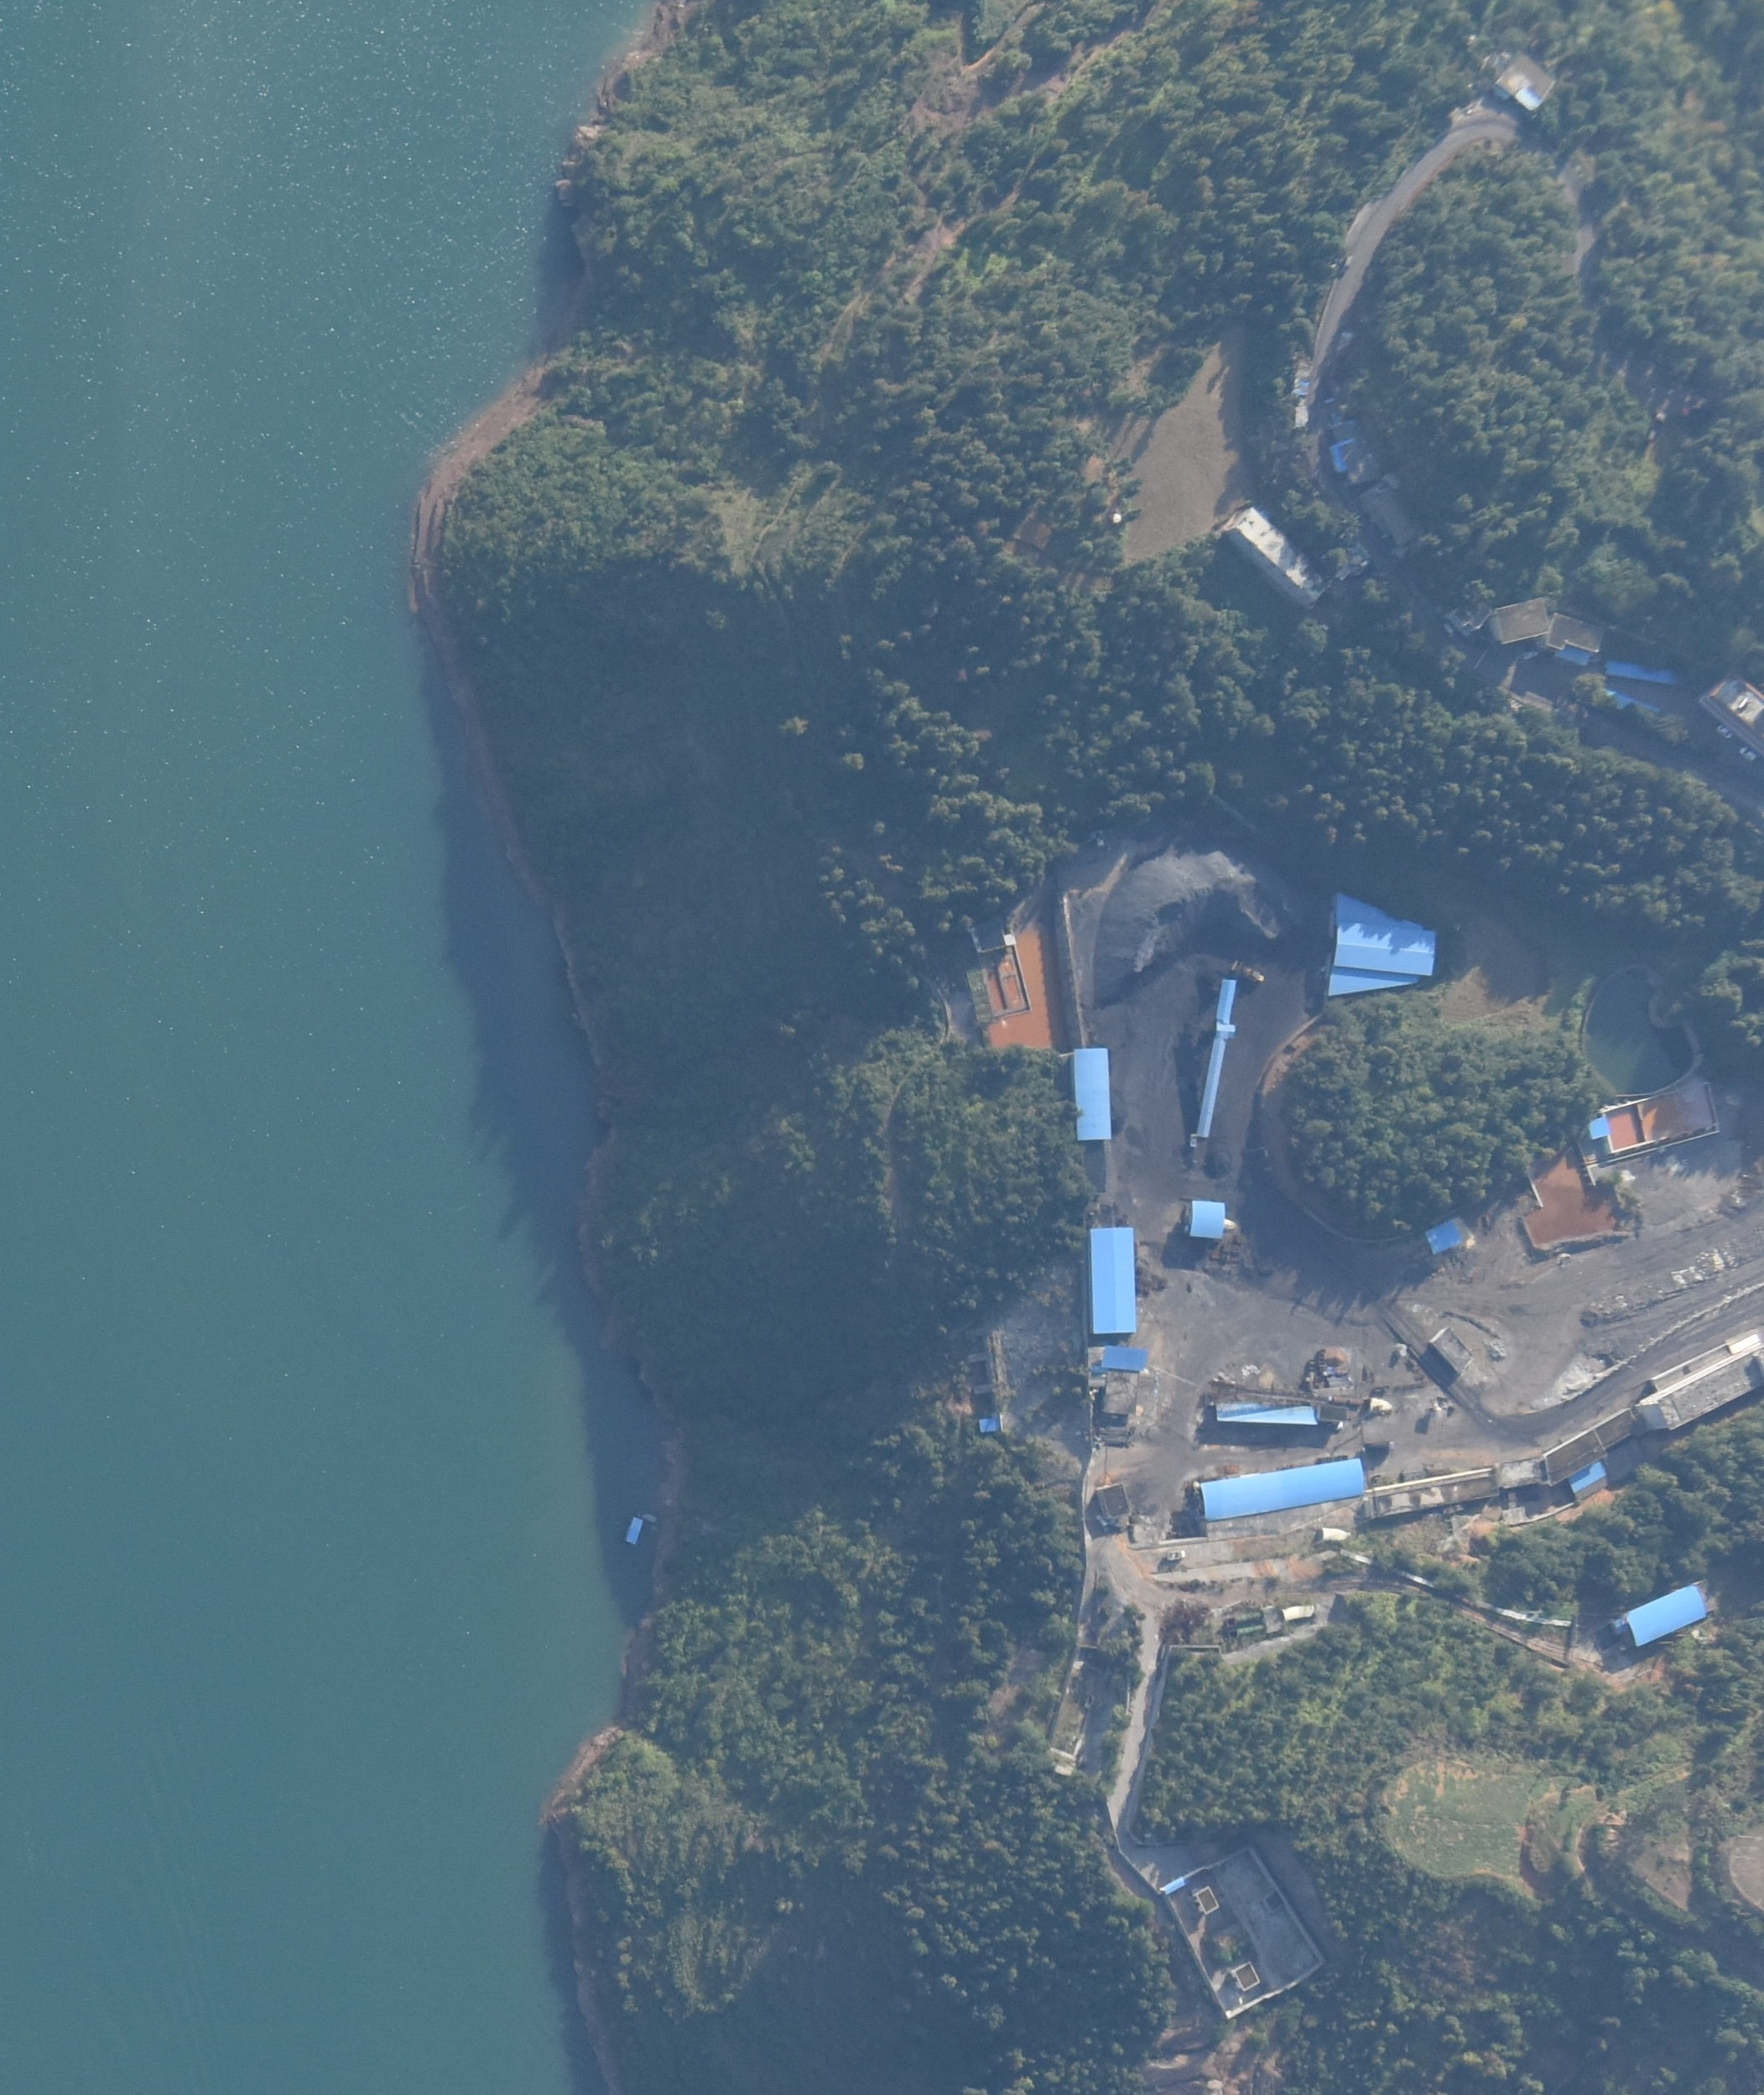building: (1168, 1849, 1321, 2016), (1642, 1334, 1764, 1431), (1226, 502, 1329, 612), (1543, 1410, 1640, 1481), (1361, 1469, 1496, 1516), (1699, 673, 1764, 754), (1326, 399, 1377, 483), (1492, 54, 1556, 112), (1365, 487, 1418, 543), (1546, 612, 1604, 663), (1499, 597, 1550, 648), (1427, 1326, 1474, 1370), (1288, 354, 1315, 429), (1448, 591, 1491, 631), (1496, 1458, 1545, 1493), (1105, 1372, 1138, 1417), (967, 917, 1011, 951), (1095, 1482, 1131, 1517), (1263, 1605, 1285, 1633), (1283, 1605, 1318, 1622)
prefabricated-house: (1330, 892, 1438, 996), (1200, 1457, 1364, 1518), (1195, 976, 1237, 1137), (1612, 1583, 1706, 1647), (1090, 1227, 1142, 1333), (1069, 1042, 1115, 1141), (1210, 1396, 1317, 1430), (1590, 685, 1669, 721), (1603, 656, 1678, 685), (1185, 1198, 1226, 1239), (1091, 1342, 1149, 1371), (1569, 1462, 1605, 1499), (1425, 1224, 1460, 1255), (624, 1518, 643, 1545), (1589, 1114, 1608, 1138), (980, 1415, 1002, 1431)
quarry: (1071, 819, 1764, 1645)
